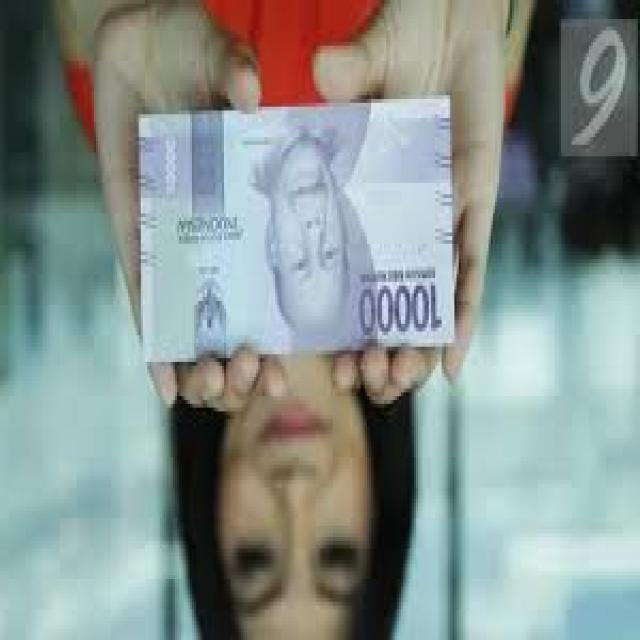sepuluh ribu rupiah: (141, 99, 450, 362)
